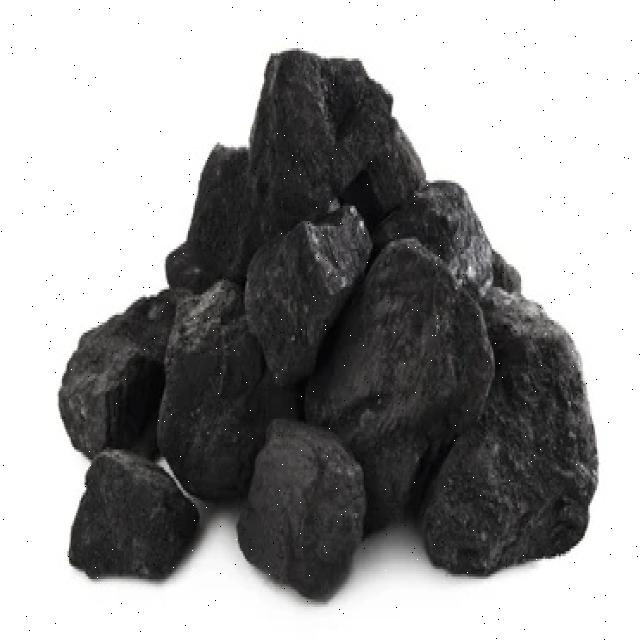Sedimentary: (55, 41, 611, 586)
